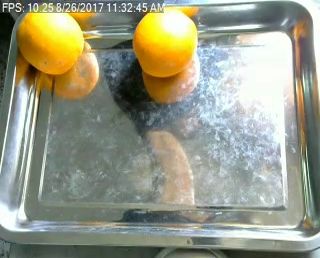Orange: (16, 5, 84, 75), (133, 7, 198, 78)
